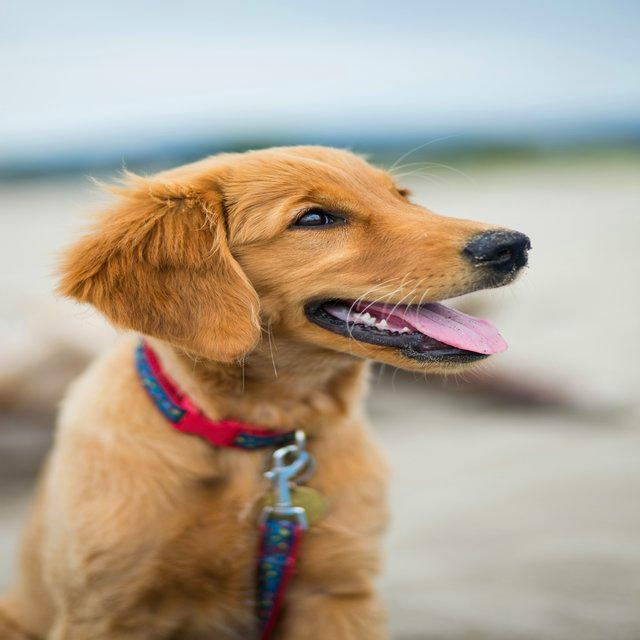retriever: (0, 142, 532, 638)
